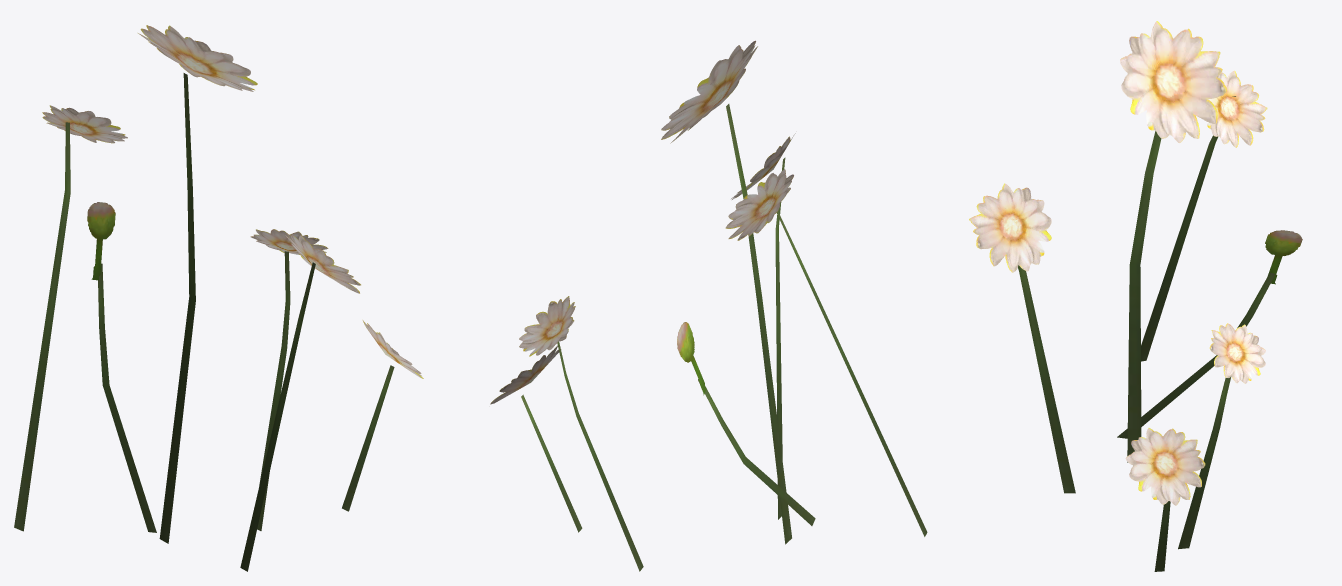
Rendered from map_xuanren_shu_7.fbx.
3 renders of one model, left to right at view 1: azimuth 30°, elevation 25°; view 2: azimuth 150°, elevation 25°; view 3: azimuth 270°, elevation 25°, orthographic. The views are drawn at different scales.
Visible parts, largest first — view 1: polySurface764; view 2: polySurface764; view 3: polySurface764.
Part boxes in pixels (x1,y1,x2,y2): polySurface764: (14, 25, 423, 571); polySurface764: (490, 40, 927, 571); polySurface764: (969, 21, 1302, 571).
Bounding box in the file's own units: 0.2083 × 0.2615 × 0.1782.
